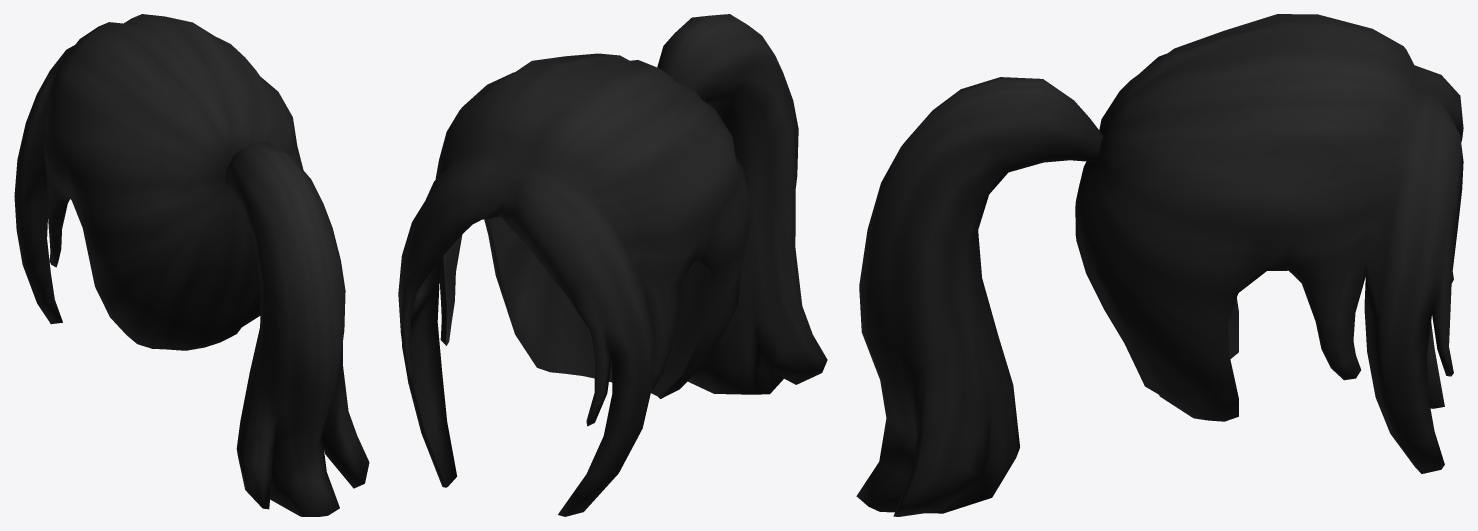
The model's file is Hair_Female_002_textured_black.glb.
3 renders of one model, left to right at view 1: azimuth 30°, elevation 25°; view 2: azimuth 150°, elevation 25°; view 3: azimuth 270°, elevation 25°, orthographic. The views are drawn at different scales.
Visible parts, largest first — view 1: Hair_Female_002; view 2: Hair_Female_002; view 3: Hair_Female_002.
Part boxes in pixels (x1=…): Hair_Female_002: x1=14, y1=14, x2=369, y2=516; Hair_Female_002: x1=398, y1=14, x2=827, y2=516; Hair_Female_002: x1=856, y1=14, x2=1463, y2=516.
Size of the model in its own units: 0.1741 by 0.2888 by 0.3351.
Materials: 1 (1 with a texture image).
